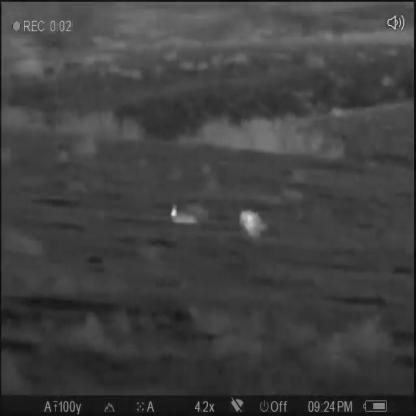rehkitze: (236, 211, 266, 241), (165, 206, 195, 227)
